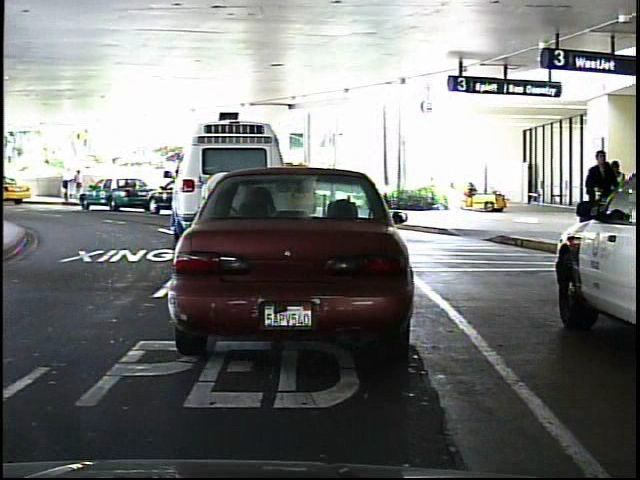person: (580, 143, 621, 252), (72, 164, 88, 195), (66, 161, 71, 200)
